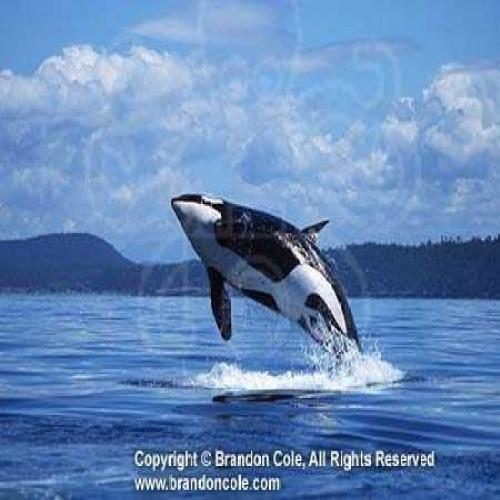killer_whale-endangered: (161, 159, 380, 379)
